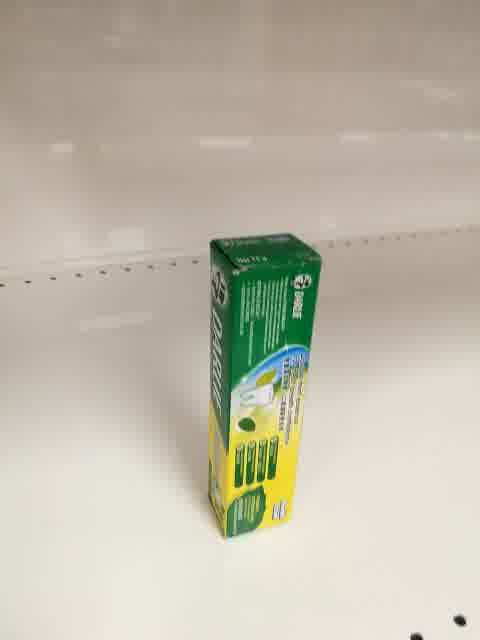toothpaste: (205, 234, 323, 540)
